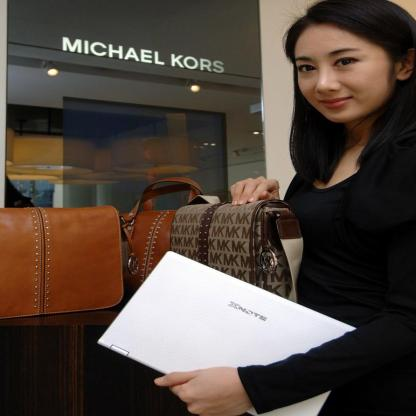board: (99, 251, 355, 415)
